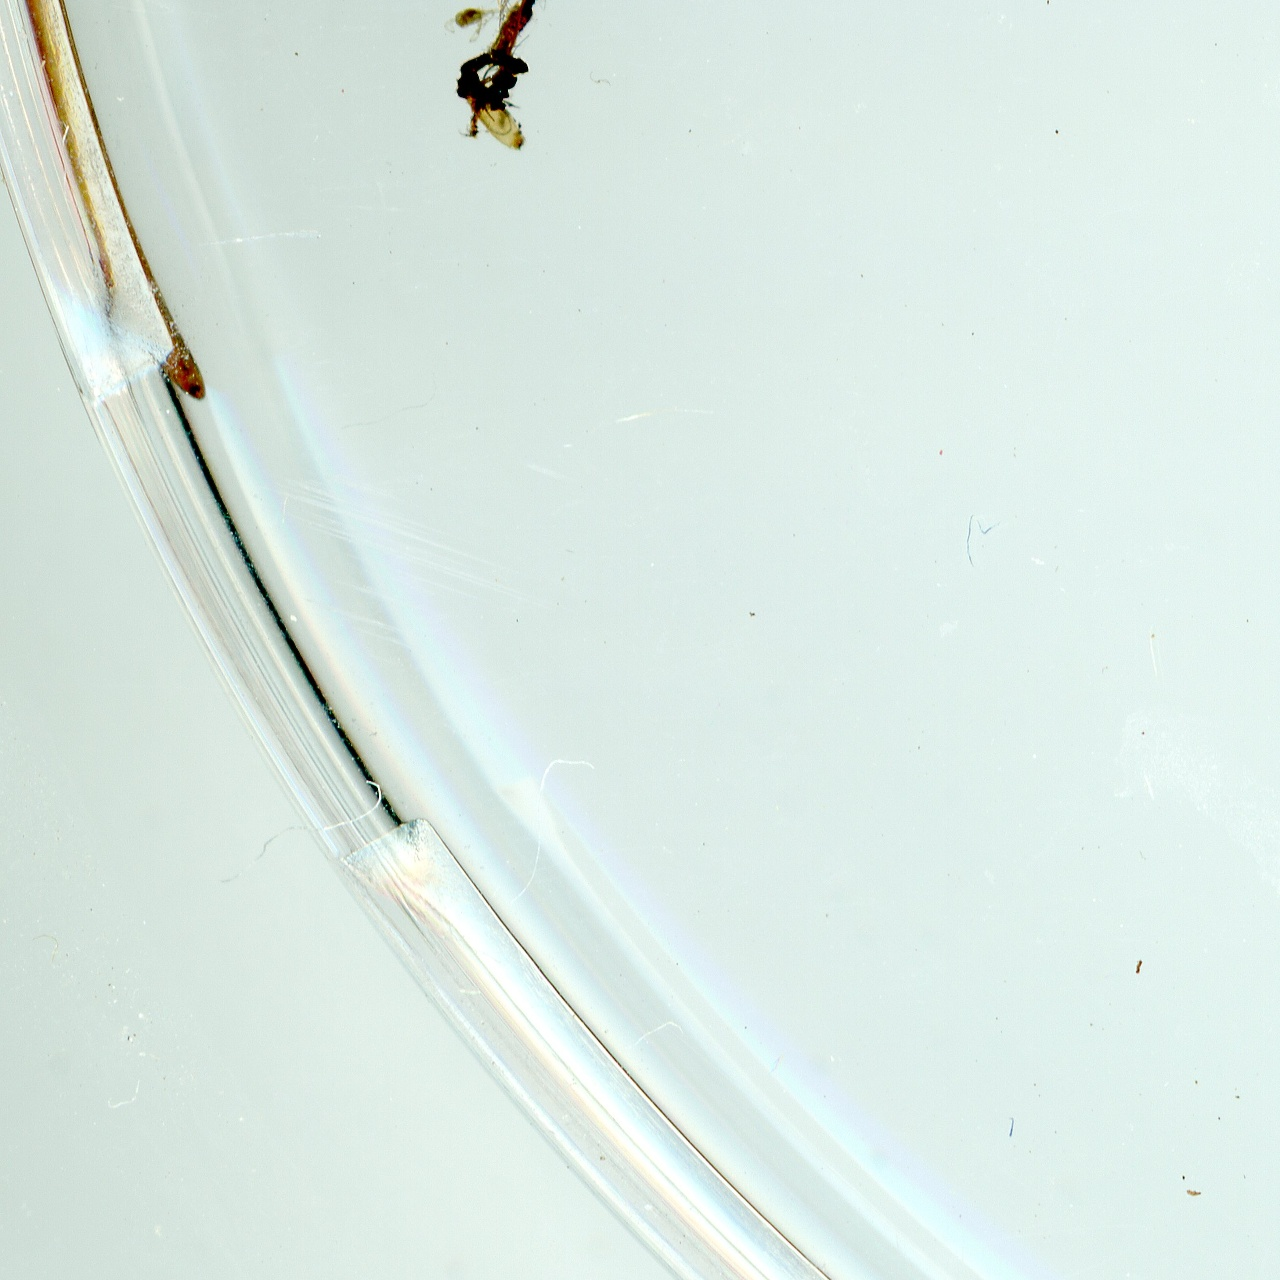arthropod: (441, 4, 502, 45)
